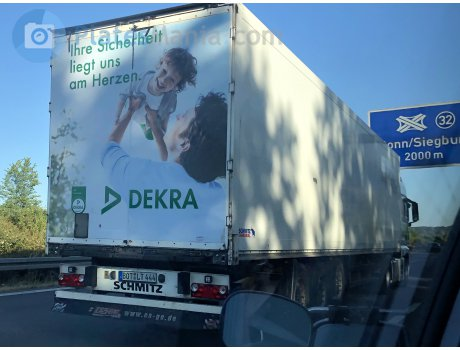License Plates: (111, 265, 161, 281)
